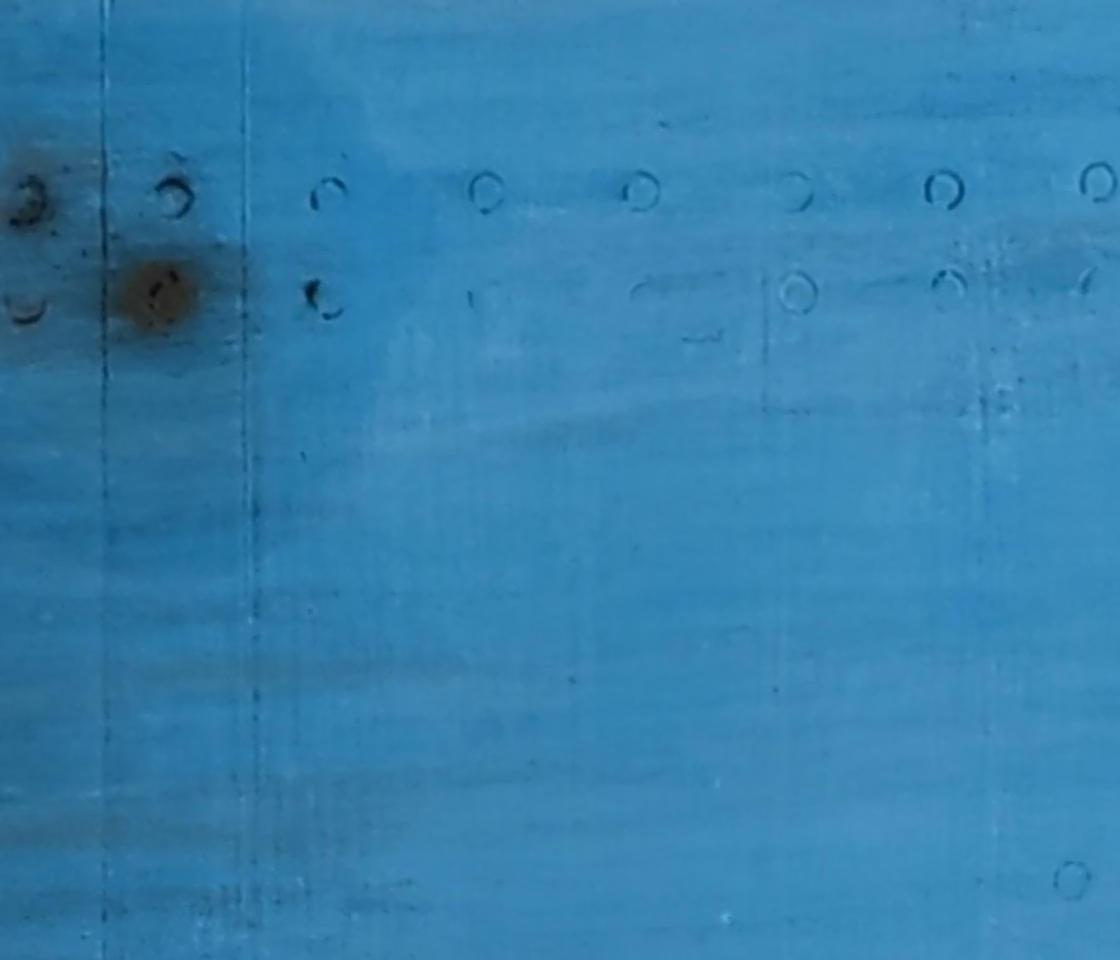rust: (123, 262, 200, 331)
